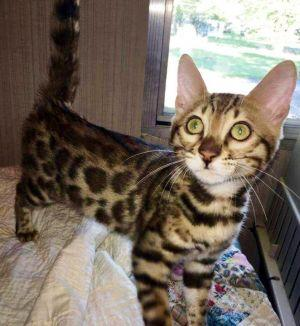bengal: (166, 48, 300, 194)
